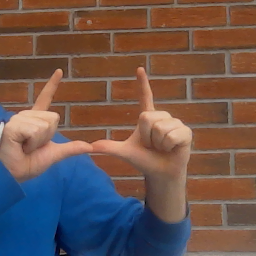U: (2, 65, 195, 184)
